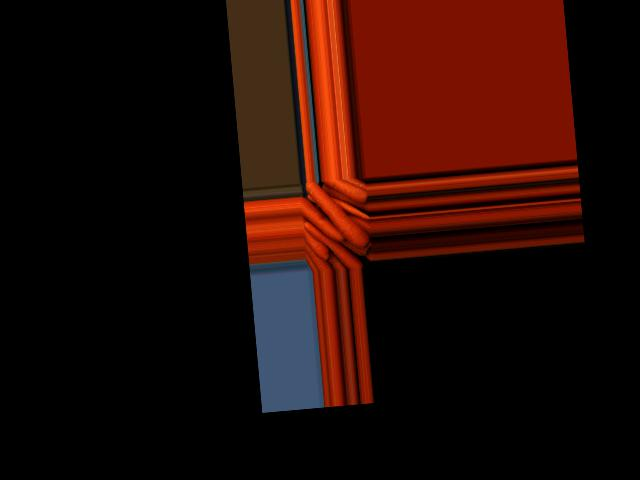carrot: (305, 219, 357, 273)
